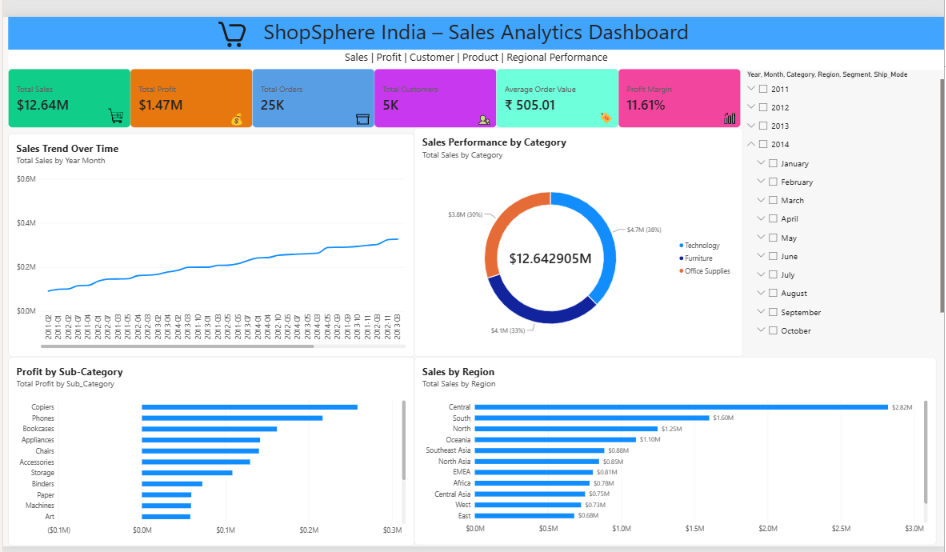

The dashboard page shown, as its layout file describes it:
{"tool":"powerbi","page":{"name":"Executive Overview","canvas":[1920,1080],"ordinal":0},"visuals":[{"type":"textbox","box":[10.2,0,1910.2,67.3],"z":0},{"type":"textbox","box":[10.2,67.3,1910.2,40.8],"z":1000},{"type":"cardVisual","fields":{"Data":["SalesData.Total Sales"]},"box":[10.2,106.1,250,120],"z":2000},{"type":"cardVisual","fields":{"Data":["SalesData.Total Profit"]},"box":[259.2,106.1,250,120],"z":3000},{"type":"cardVisual","fields":{"Data":["SalesData.Total Orders"]},"box":[508.2,106.1,250,120],"z":4000},{"type":"cardVisual","fields":{"Data":["SalesData.Total Customers"]},"box":[757.1,106.1,250,120],"z":5000},{"type":"cardVisual","fields":{"Data":["SalesData.Profit Margin"]},"box":[1255.1,106.1,250,120],"z":6000},{"type":"cardVisual","fields":{"Data":["SalesData.Average Order Value"]},"box":[1006.1,106.1,250,120],"z":7000},{"type":"slicer","fields":{"Values":["DateTable.Year","DateTable.Month","SalesData.Category","SalesData.Region","SalesData.Segment","SalesData.Ship_Mode"]},"box":[1510.2,108.2,410.2,557.1],"z":8000},{"type":"lineChart","title":"Sales Trend Over Time","fields":{"Category":["DateTable.Year Month"],"Y":["SalesData.Total Sales"]},"box":[10.2,238.8,828.6,455.1],"z":9000},{"type":"donutChart","title":"Sales Performance by Category","fields":{"Category":["SalesData.Category"],"Y":["SalesData.Total Sales"]},"box":[838.8,226.5,671.4,467.3],"z":10000},{"type":"clusteredBarChart","title":"Profit by Sub-Category","fields":{"Category":["SalesData.Sub_Category"],"Y":["SalesData.Total Profit"]},"box":[10.2,693.9,828.6,385.7],"z":11000},{"type":"clusteredBarChart","title":" Sales by Region","fields":{"Category":["SalesData.Region"],"Y":["SalesData.Total Sales"]},"box":[838.8,693.9,1065.3,383.7],"z":12000},{"type":"image","box":[214.3,179.6,30.6,44.9],"z":13000},{"type":"image","box":[453.1,195.9,46.9,26.5],"z":14000},{"type":"image","box":[710.2,195.9,46.9,26.5],"z":15000},{"type":"image","box":[959.2,195.9,46.9,30.6],"z":16000},{"type":"image","box":[1208.2,195.9,46.9,22.4],"z":17000},{"type":"image","box":[391.8,0,151,67.3],"z":18000},{"type":"image","box":[1461.2,195.9,42.9,22.4],"z":19000}]}

Visuals, with their boxes on the page's 1920x1080 design canvas (x1, y1, x2, y2). These are canvas units, not pixel positions in the 946x552 screenshot, which may show the page scaled, cropped or inside an application window:
textbox: [10,0,1920,67]
textbox: [10,67,1920,108]
cardVisual - SalesData.Total Sales: [10,106,260,226]
cardVisual - SalesData.Total Profit: [259,106,509,226]
cardVisual - SalesData.Total Orders: [508,106,758,226]
cardVisual - SalesData.Total Customers: [757,106,1007,226]
cardVisual - SalesData.Profit Margin: [1255,106,1505,226]
cardVisual - SalesData.Average Order Value: [1006,106,1256,226]
slicer - DateTable.Year x DateTable.Month: [1510,108,1920,665]
"Sales Trend Over Time" lineChart: [10,239,839,694]
"Sales Performance by Category" donutChart: [839,226,1510,694]
"Profit by Sub-Category" clusteredBarChart: [10,694,839,1080]
" Sales by Region" clusteredBarChart: [839,694,1904,1078]
image: [214,180,245,224]
image: [453,196,500,222]
image: [710,196,757,222]
image: [959,196,1006,226]
image: [1208,196,1255,218]
image: [392,0,543,67]
image: [1461,196,1504,218]
